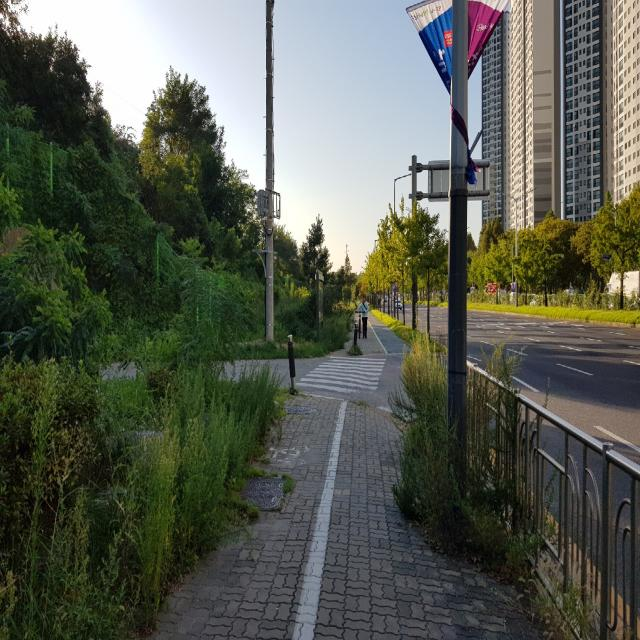횡단보도: (296, 355, 387, 397)
